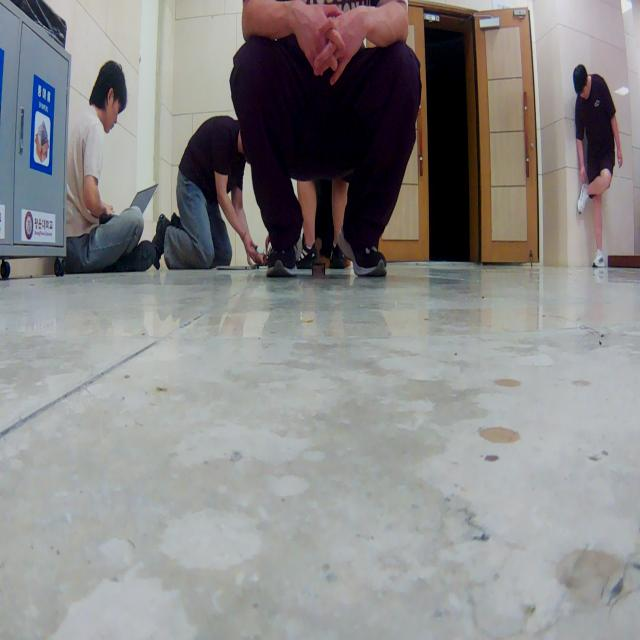target: (312, 237, 325, 277)
